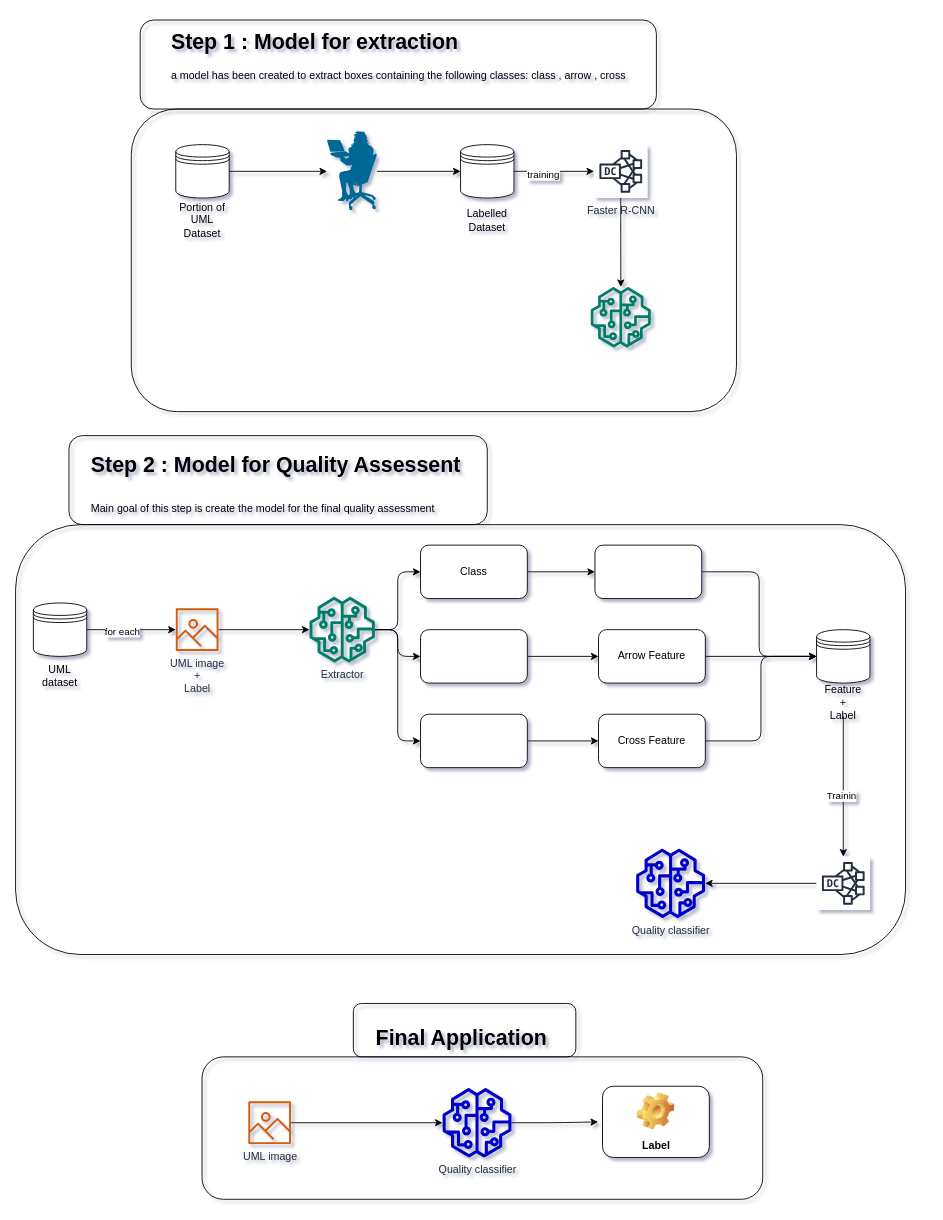
Some shapes in this 943 by 1220 pixel diagram are drawn without their labels. Each missing label, with the box of its shape:
Arrow: (420, 629, 527, 683)
Class Feature: (594, 544, 702, 599)
Classifier: (816, 856, 870, 910)
Cross: (420, 713, 527, 768)
extractor Model: (590, 287, 651, 347)
Labelling: (326, 130, 377, 212)
